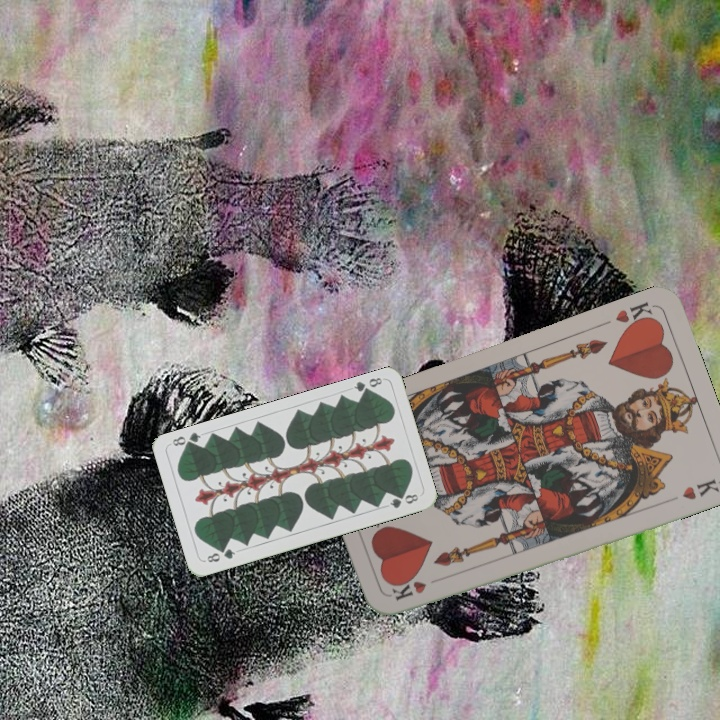G8: (350, 373, 385, 398), (203, 544, 238, 565)
HK: (611, 298, 658, 333), (388, 577, 429, 603)
